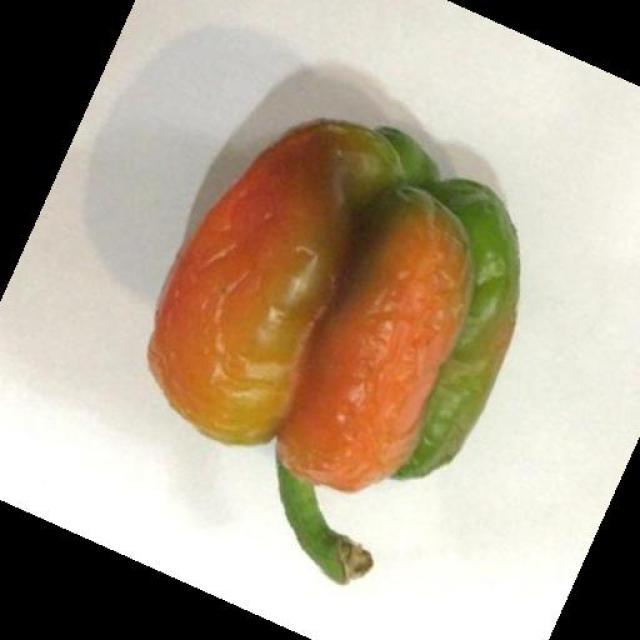Stale_Capsicum: (152, 116, 500, 490)
